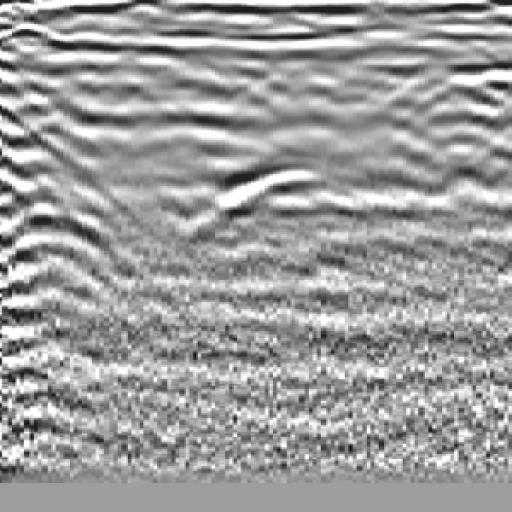metalic: (173, 143, 381, 254)
nonmetalic: (1, 40, 139, 308)
